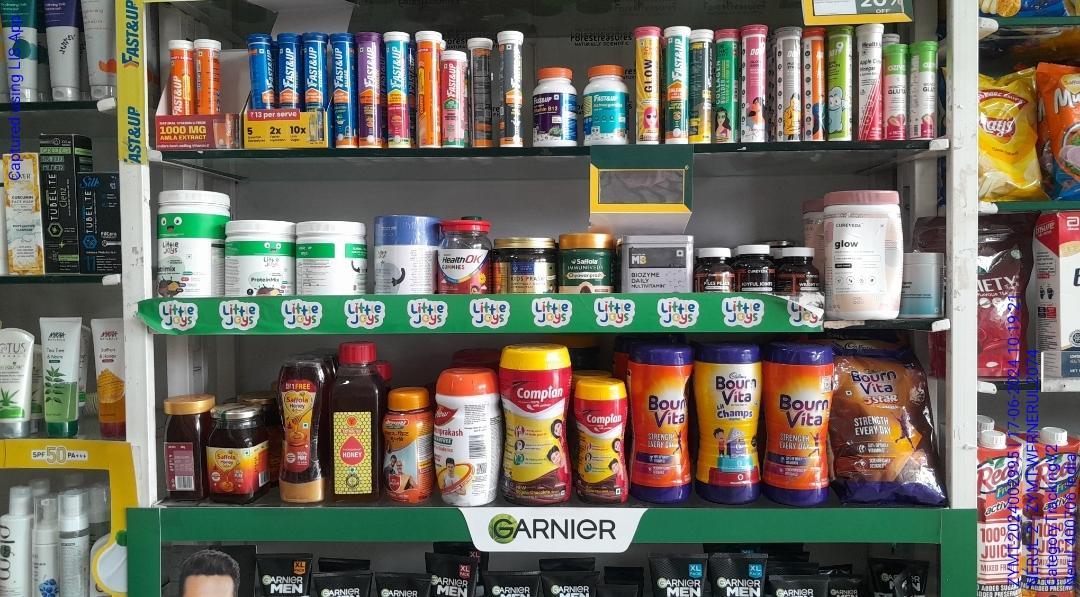BOURN_VITA_CHAMPS_500_G_JAR: (694, 342, 762, 503)
BOURN_VITA_FIVE_STAR_MAGIC_750_G_POUCH: (836, 349, 937, 492)
COMPLAN_CHOCOLATE_200_GMS_JAR: (574, 377, 630, 498)
COMPLAN_CHOCOLATE_500_GMS_JAR: (502, 340, 571, 503)
